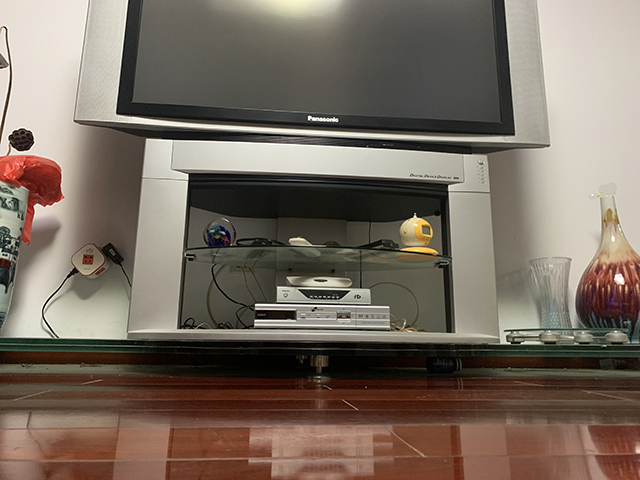cabinet: (1, 137, 640, 385)
